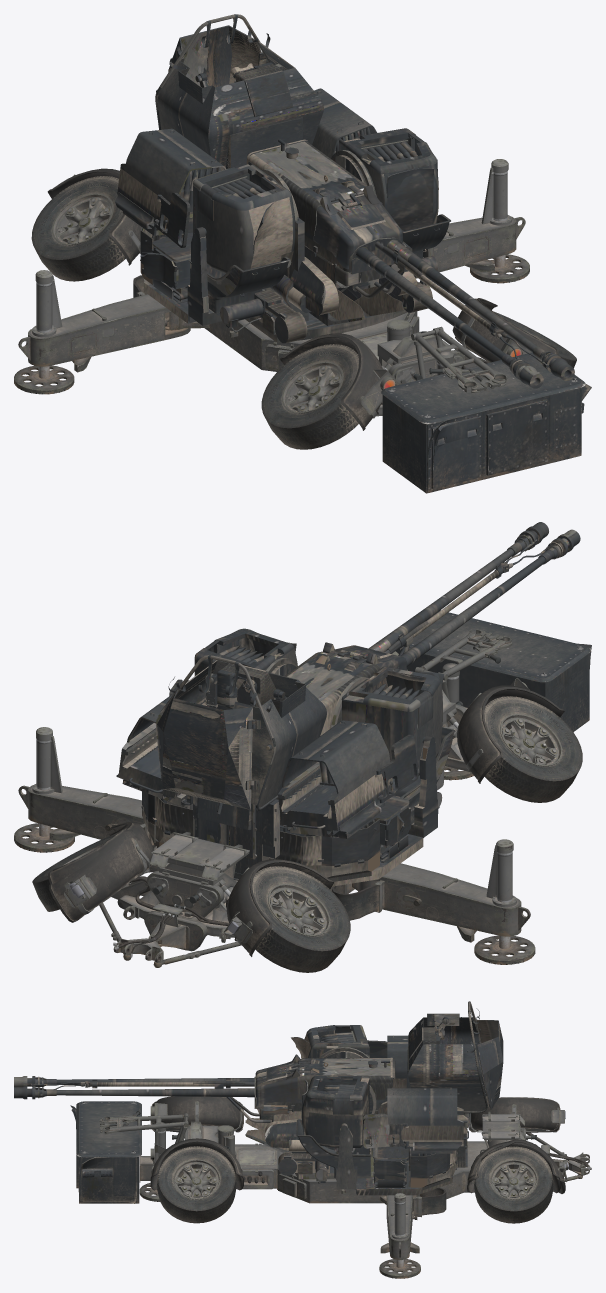
File: VEH_Stationary_GDF009.glb
3 views of the same model, one above another, from view 1: azimuth 30°, elevation 25°; view 2: azimuth 150°, elevation 25°; view 3: azimuth 270°, elevation 25° (orthographic). The views are drawn at different scales.
Visible parts, largest first — view 1: ob_veh_stationary_gdf009_base_s4, ob_veh_stationary_gdf009_base_s0, ob_veh_stationary_gdf009_base_s2, ob_veh_stationary_gdf009_base_s1, ob_veh_stationary_gdf009_wheel_s0_p1, ob_veh_stationary_gdf009_wheel_s0_p0; view 2: ob_veh_stationary_gdf009_base_s4, ob_veh_stationary_gdf009_base_s0, ob_veh_stationary_gdf009_base_s1, ob_veh_stationary_gdf009_base_s2, ob_veh_stationary_gdf009_wheel_s0_p1, ob_veh_stationary_gdf009_wheel_s0_p0, ob_veh_stationary_gdf009_wheel_s0_p2; view 3: ob_veh_stationary_gdf009_base_s4, ob_veh_stationary_gdf009_base_s0, ob_veh_stationary_gdf009_base_s1, ob_veh_stationary_gdf009_base_s2, ob_veh_stationary_gdf009_wheel_s0_p3, ob_veh_stationary_gdf009_wheel_s0_p2.
Boxes of the visible parts, <box> form: ob_veh_stationary_gdf009_base_s4: <box>115,67,574,388</box>; ob_veh_stationary_gdf009_base_s0: <box>14,159,558,430</box>; ob_veh_stationary_gdf009_base_s2: <box>381,352,591,493</box>; ob_veh_stationary_gdf009_base_s1: <box>155,14,323,168</box>; ob_veh_stationary_gdf009_wheel_s0_p1: <box>261,344,358,449</box>; ob_veh_stationary_gdf009_wheel_s0_p0: <box>31,176,125,281</box>; ob_veh_stationary_gdf009_base_s4: <box>116,522,580,886</box>; ob_veh_stationary_gdf009_base_s0: <box>14,629,564,967</box>; ob_veh_stationary_gdf009_base_s1: <box>156,655,326,880</box>; ob_veh_stationary_gdf009_base_s2: <box>395,610,591,731</box>; ob_veh_stationary_gdf009_wheel_s0_p1: <box>484,696,582,802</box>; ob_veh_stationary_gdf009_wheel_s0_p0: <box>252,866,350,972</box>; ob_veh_stationary_gdf009_wheel_s0_p2: <box>32,832,118,911</box>; ob_veh_stationary_gdf009_base_s4: <box>14,1017,468,1195</box>; ob_veh_stationary_gdf009_base_s0: <box>99,1096,591,1278</box>; ob_veh_stationary_gdf009_base_s1: <box>406,1001,503,1167</box>; ob_veh_stationary_gdf009_base_s2: <box>70,1101,141,1203</box>; ob_veh_stationary_gdf009_wheel_s0_p3: <box>157,1146,236,1223</box>; ob_veh_stationary_gdf009_wheel_s0_p2: <box>474,1146,553,1223</box>.
Bounding box in the file's own units: 4.84 × 2.47 × 6.93.
Materials: 5 (5 with a texture image).
